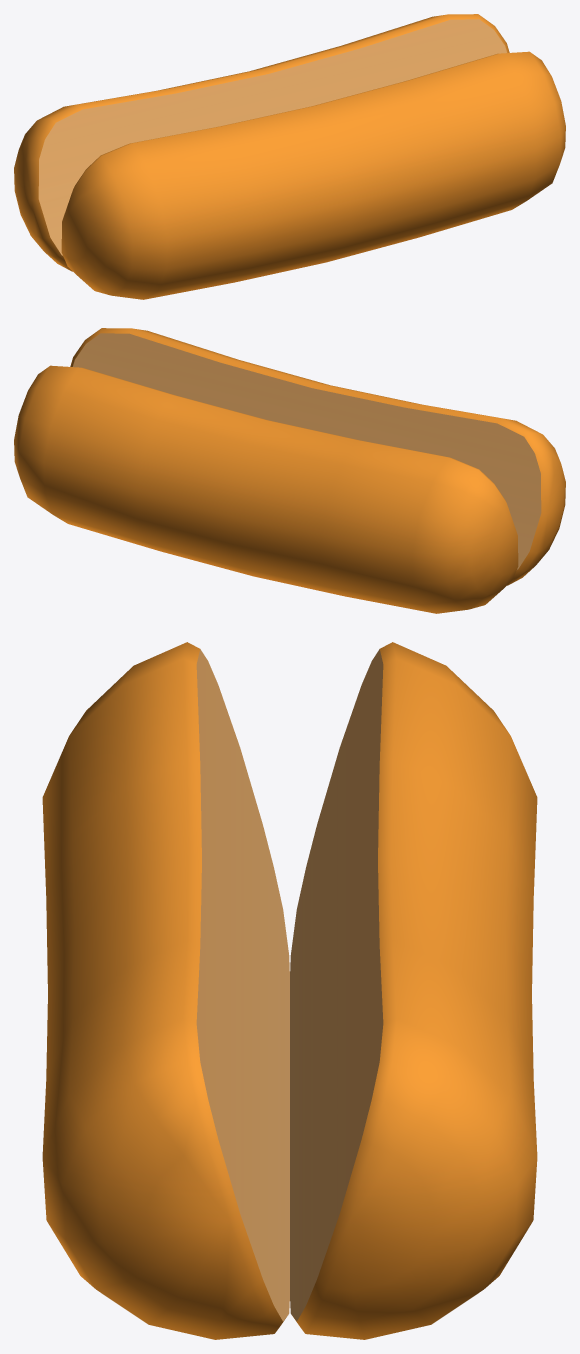
File: HotDog_bun.002.fbx
3 views of the same model, one above another, from view 1: azimuth 30°, elevation 25°; view 2: azimuth 150°, elevation 25°; view 3: azimuth 270°, elevation 25° (orthographic). The views are drawn at different scales.
Parts seen in each view (by area): view 1: HotDog_bun.002; view 2: HotDog_bun.002; view 3: HotDog_bun.002.
Part boxes in pixels (x1=…): HotDog_bun.002: x1=14, y1=14, x2=565, y2=299; HotDog_bun.002: x1=14, y1=328, x2=565, y2=613; HotDog_bun.002: x1=42, y1=642, x2=537, y2=1339.
Bounding box in the file's own units: 153 × 67.45 × 49.74.
